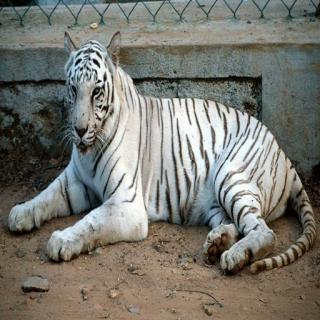Tiger: (6, 29, 318, 275)
